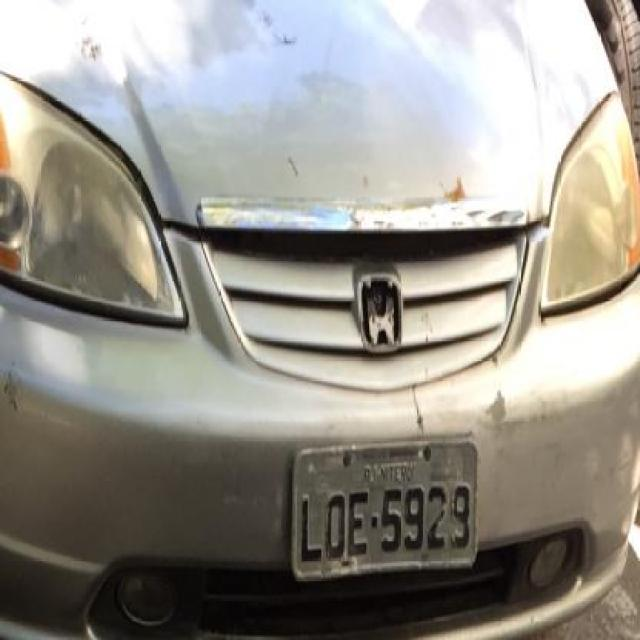old_plate: (284, 436, 484, 589)
